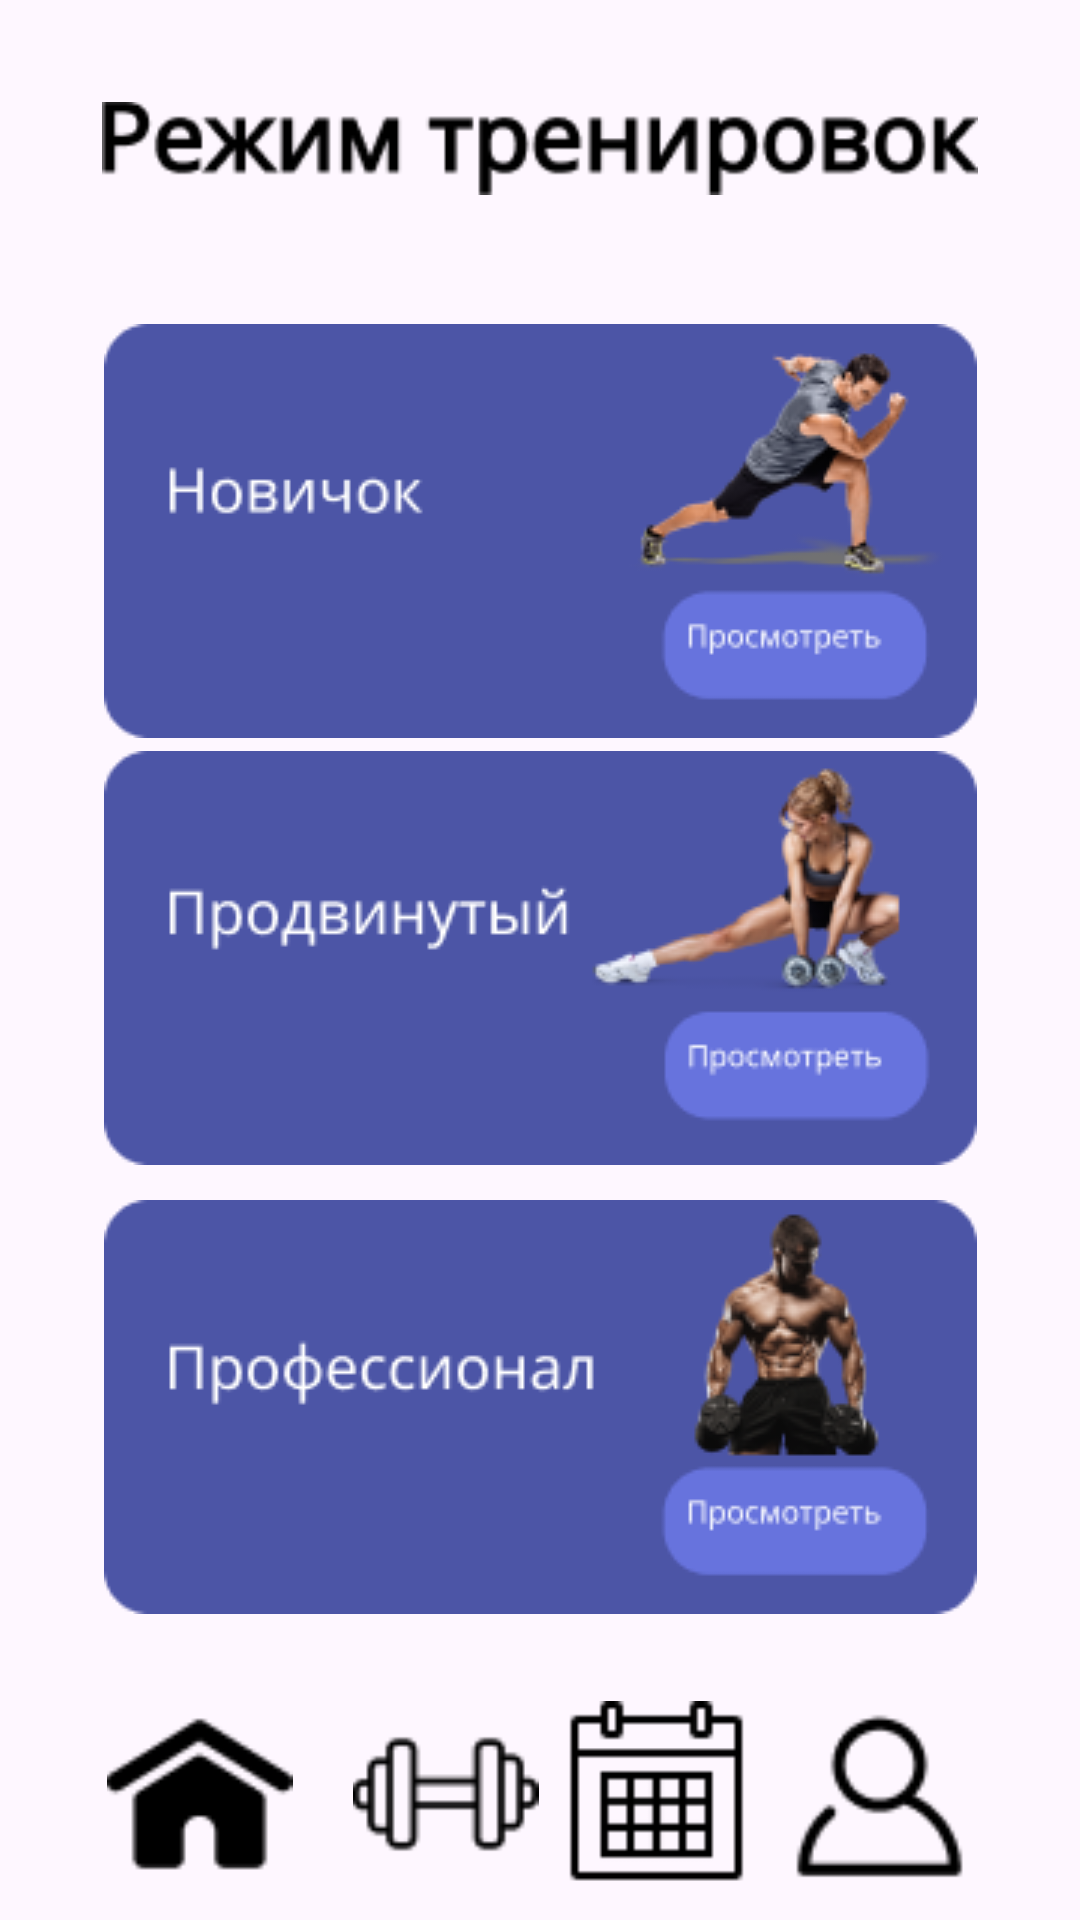

Where icons sit on this 1080px×1920px app screen, as bbox=(x1, y1, x2, y2):
home: bbox=(107, 1718, 293, 1870)
profile: bbox=(796, 1715, 963, 1877)
schedule: bbox=(569, 1701, 744, 1881)
trener: bbox=(353, 1737, 539, 1851)
